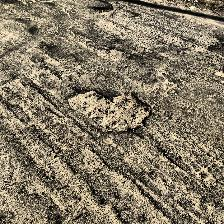pothole: (68, 89, 152, 131)
